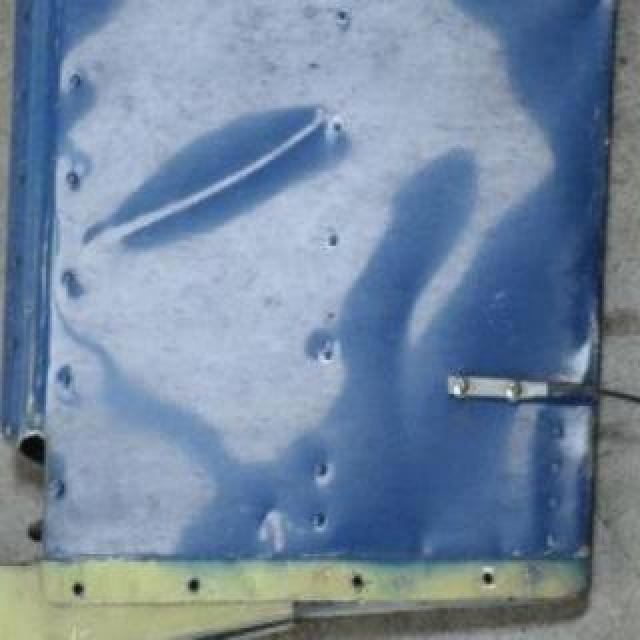dent: (97, 108, 333, 236)
